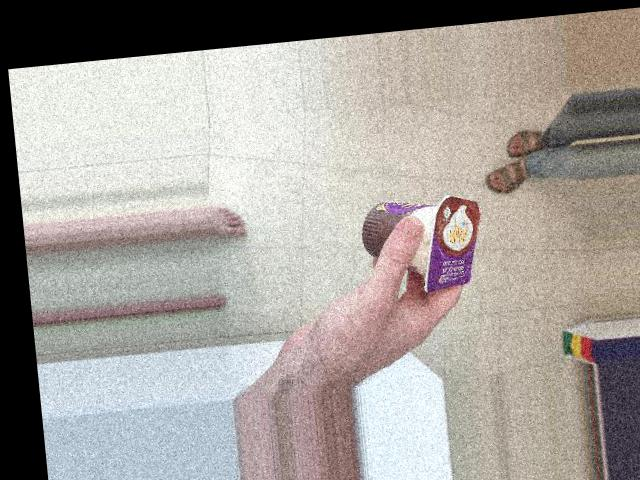milky: (394, 147, 494, 279)
